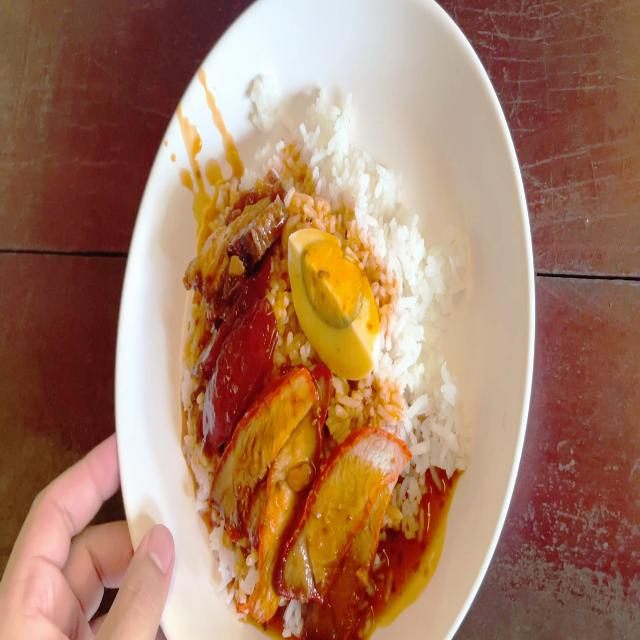boiled_egg: (287, 228, 377, 378)
chainese_sausage: (202, 262, 278, 428)
crispy_pork: (191, 180, 283, 284)
red_pork: (220, 382, 397, 636)
red_pork_and_crispy_pork: (199, 106, 454, 608)
rice: (373, 220, 461, 427), (272, 96, 402, 226)
